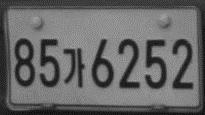2: (116, 38, 141, 89), (172, 38, 194, 89)
5: (144, 38, 167, 89), (39, 38, 60, 87)
6: (90, 38, 114, 87)
8: (13, 37, 34, 87)
가: (62, 47, 86, 88)
